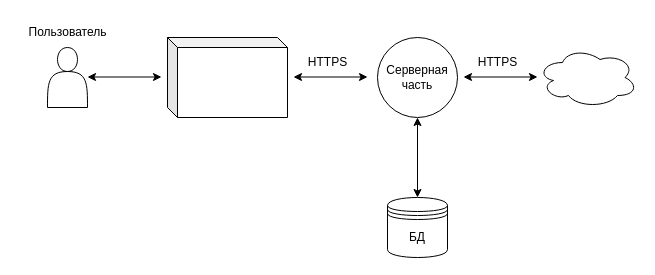
Some shapes in this 655 by 275 pixel diagram are drawn without their labels. The centre of each missing label's shape, as x and y in pixels:
"Внешние сервисы" goes at pixel 587 77.
"Клиентская часть" goes at pixel 227 77.
